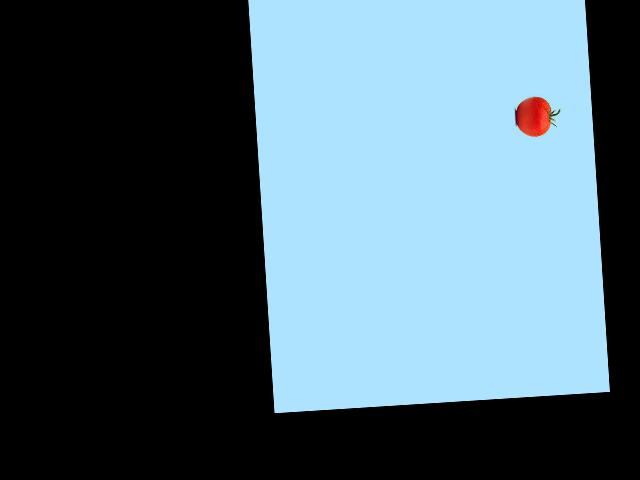tomato: (515, 96, 552, 138)
